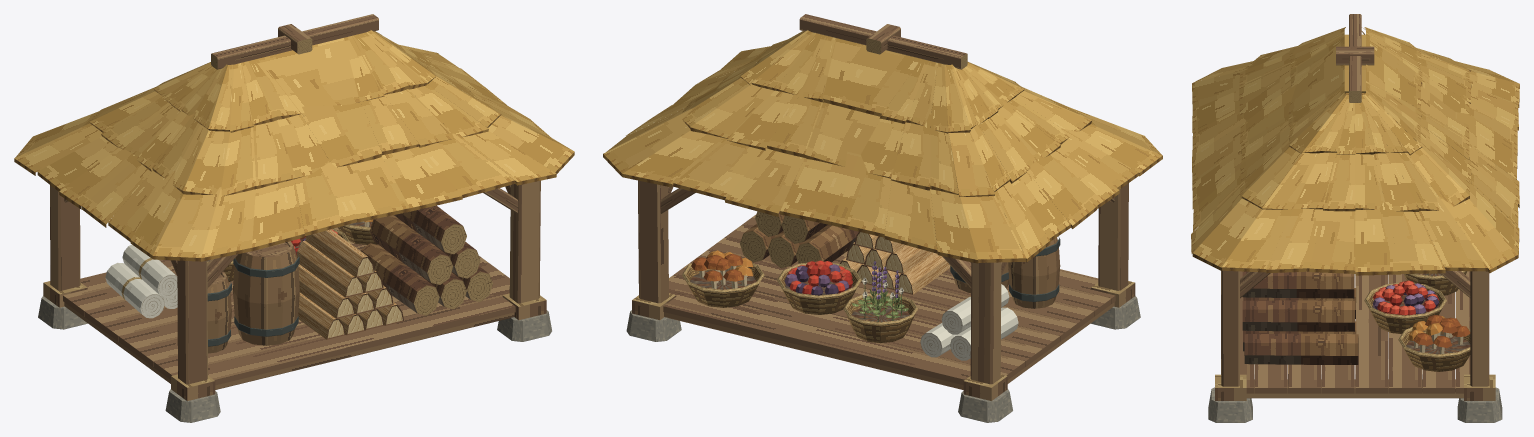
File: stockhouse.glb
3 views of the same model, side by side, from view 1: azimuth 30°, elevation 25°; view 2: azimuth 150°, elevation 25°; view 3: azimuth 270°, elevation 25° (orthographic). The views are drawn at different scales.
Visible parts, largest first — view 1: Stockhouse_structure, Woodlog_stack, Split_firewood_stack, Barrel_large, Linen_roll_2, Barrel_small, Linen_roll_3, Basket_of_mushrooms; view 2: Stockhouse_structure, Woodlog_stack, Split_firewood_stack, Basket_of_wildflowers, Basket_of_berries, Basket_of_mushrooms, Barrel_small, Linen_roll_2, Linen_roll_3, Linen_roll_1; view 3: Stockhouse_structure, Woodlog_stack, Basket_of_mushrooms, Basket_of_berries, Basket_of_wildflowers.
Boxes of the visible parts, box(x1,y1,x2,y2) form: Stockhouse_structure: box(14, 14, 574, 422); Woodlog_stack: box(360, 205, 492, 315); Split_firewood_stack: box(296, 229, 403, 339); Barrel_large: box(233, 241, 299, 345); Linen_roll_2: box(105, 262, 164, 318); Barrel_small: box(207, 271, 231, 353); Linen_roll_3: box(122, 244, 177, 297); Basket_of_mushrooms: box(337, 219, 377, 244); Stockhouse_structure: box(603, 14, 1162, 422); Woodlog_stack: box(740, 211, 858, 268); Split_firewood_stack: box(840, 232, 950, 294); Basket_of_wildflowers: box(843, 260, 917, 343); Basket_of_berries: box(777, 260, 861, 314); Basket_of_mushrooms: box(682, 250, 764, 307); Barrel_small: box(1008, 236, 1060, 308); Linen_roll_2: box(950, 307, 1018, 360); Linen_roll_3: box(941, 284, 1009, 334); Linen_roll_1: box(920, 323, 956, 357); Stockhouse_structure: box(1191, 14, 1519, 422); Woodlog_stack: box(1242, 271, 1358, 364); Basket_of_mushrooms: box(1398, 315, 1470, 371); Basket_of_berries: box(1364, 280, 1446, 333); Basket_of_wildflowers: box(1404, 271, 1466, 295).
Bounding box in the file's own units: 6.27 × 4.1 × 4.29.
2 materials, 2 textured.
